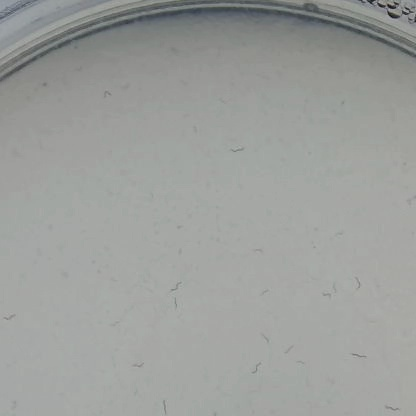worm: (379, 393, 400, 416), (3, 389, 21, 413), (163, 275, 184, 294), (225, 141, 248, 155), (165, 296, 184, 312), (347, 348, 368, 362), (159, 397, 174, 416), (97, 85, 117, 99), (349, 275, 365, 292), (0, 310, 18, 322), (247, 245, 268, 255), (282, 342, 296, 357), (258, 331, 272, 346), (403, 191, 416, 206), (321, 289, 334, 303), (333, 228, 347, 240), (295, 360, 313, 369), (133, 361, 145, 373), (329, 280, 340, 293), (259, 288, 273, 298), (107, 320, 123, 328)
